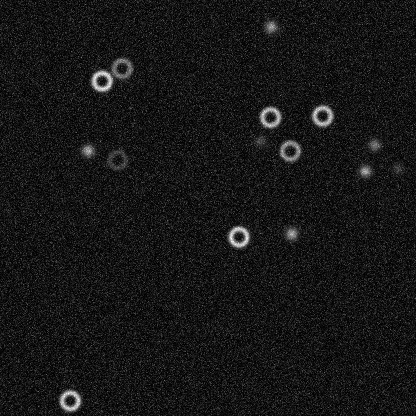Ring: (89, 68, 113, 92), (277, 138, 301, 162), (109, 56, 133, 80), (57, 388, 81, 412), (258, 105, 282, 129), (310, 103, 334, 127), (226, 224, 250, 248), (105, 147, 129, 171)
Spot: (252, 132, 268, 148), (366, 136, 382, 152), (389, 160, 405, 176), (262, 18, 278, 34), (283, 225, 299, 241), (356, 162, 372, 178), (79, 142, 95, 158)
